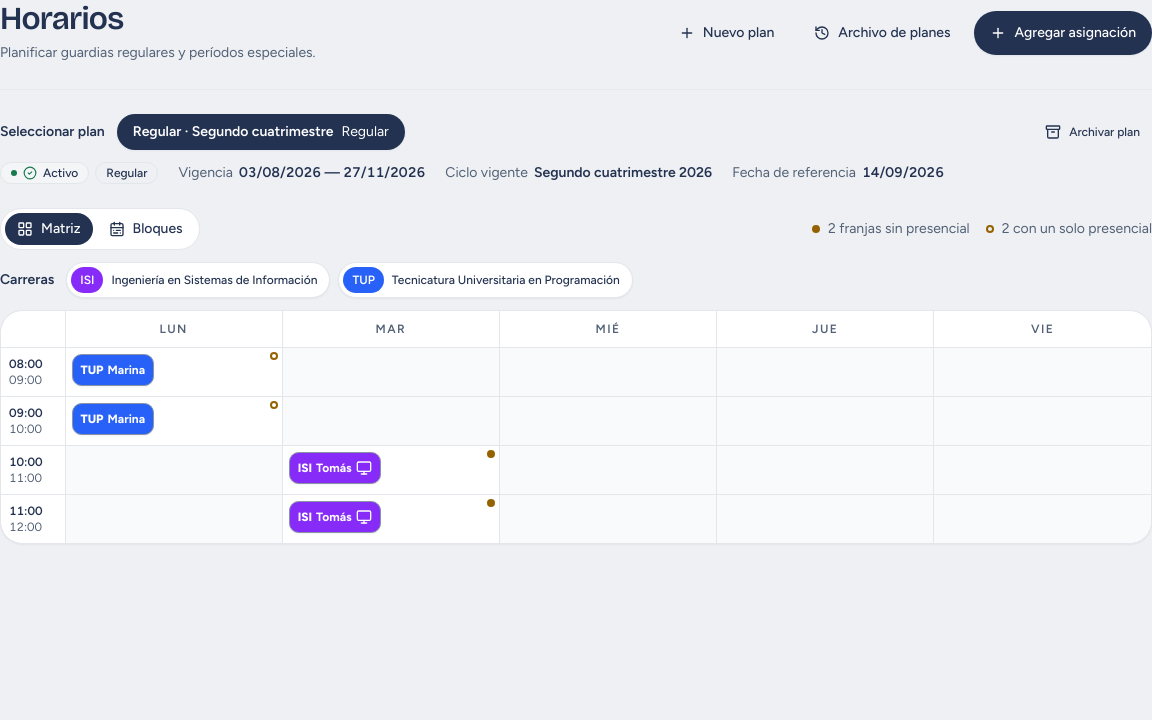
Test: SchedulesScreen › creates a virtual assignment through the API and confirms it with a toast
Step 1. Click the button "Agregar asignación" → (1063, 33), box [974, 11, 1151, 55]
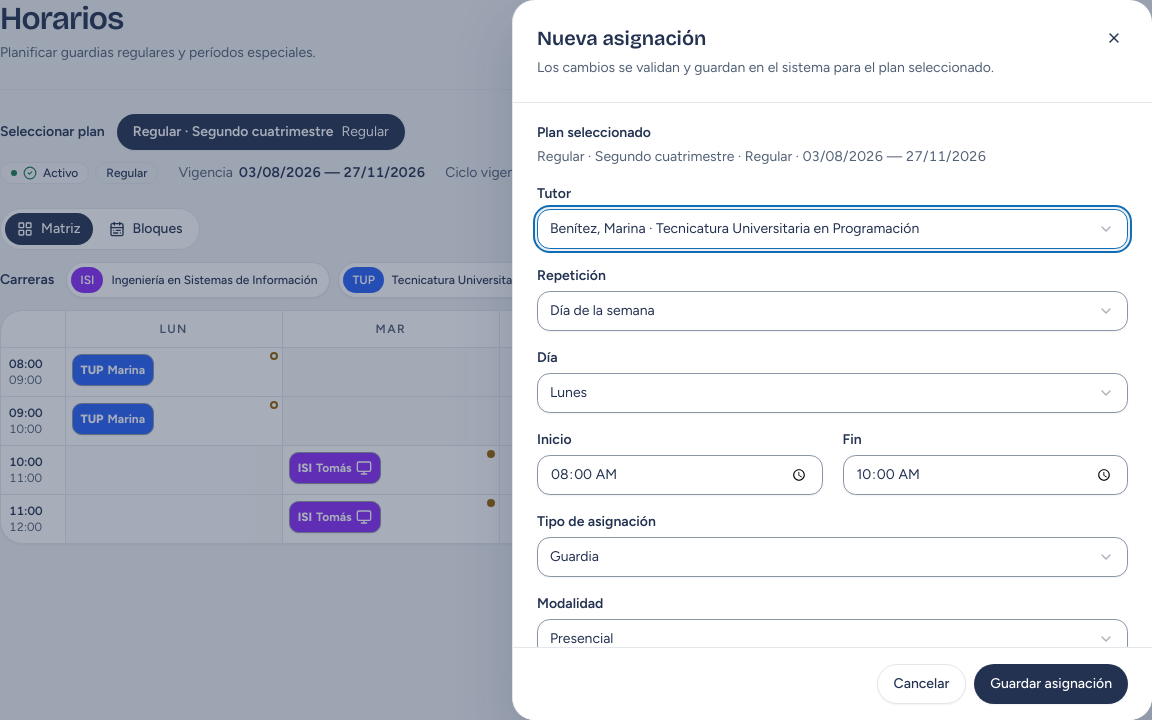
Now the text "Regular · Segundo cuatrimestre · Regular" is shown, box [537, 148, 986, 165]
Now the dropdown labelled "Modalidad" shows "Presencial", box [537, 619, 1128, 647]
Step 2. Select "Virtual" in the dropdown labelled "Modalidad" → (832, 639), box [537, 619, 1128, 659]
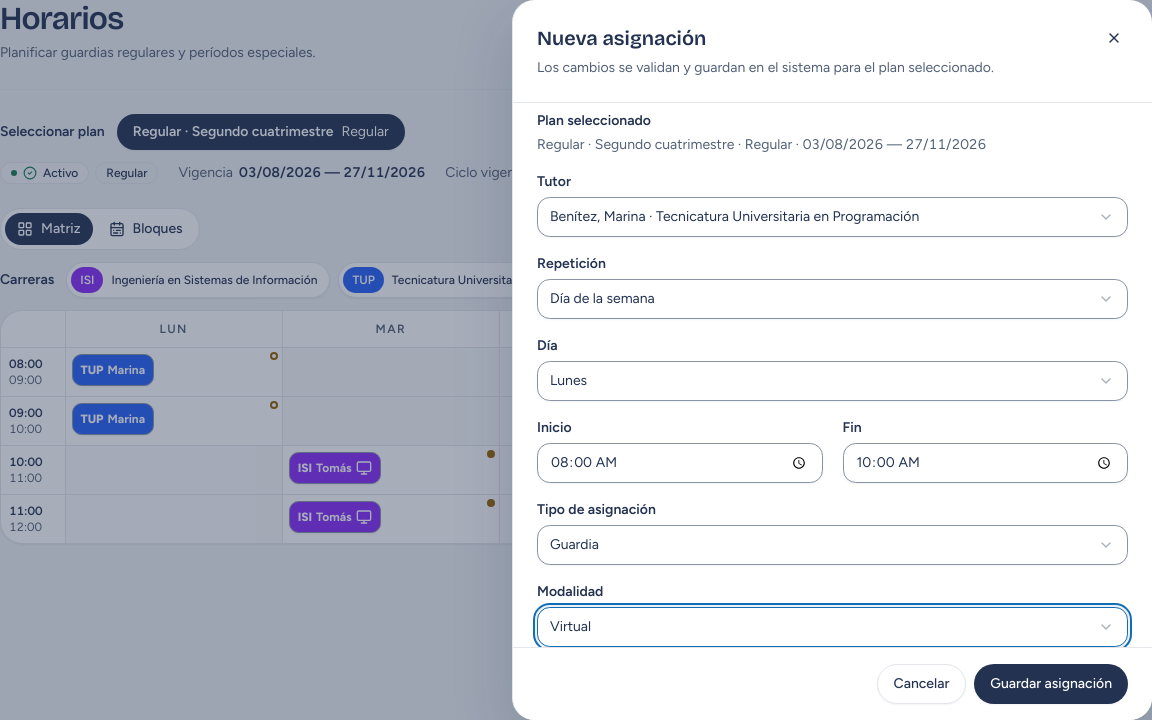
Step 3. Click the button "Guardar asignación" → (1051, 684), box [974, 664, 1128, 704]
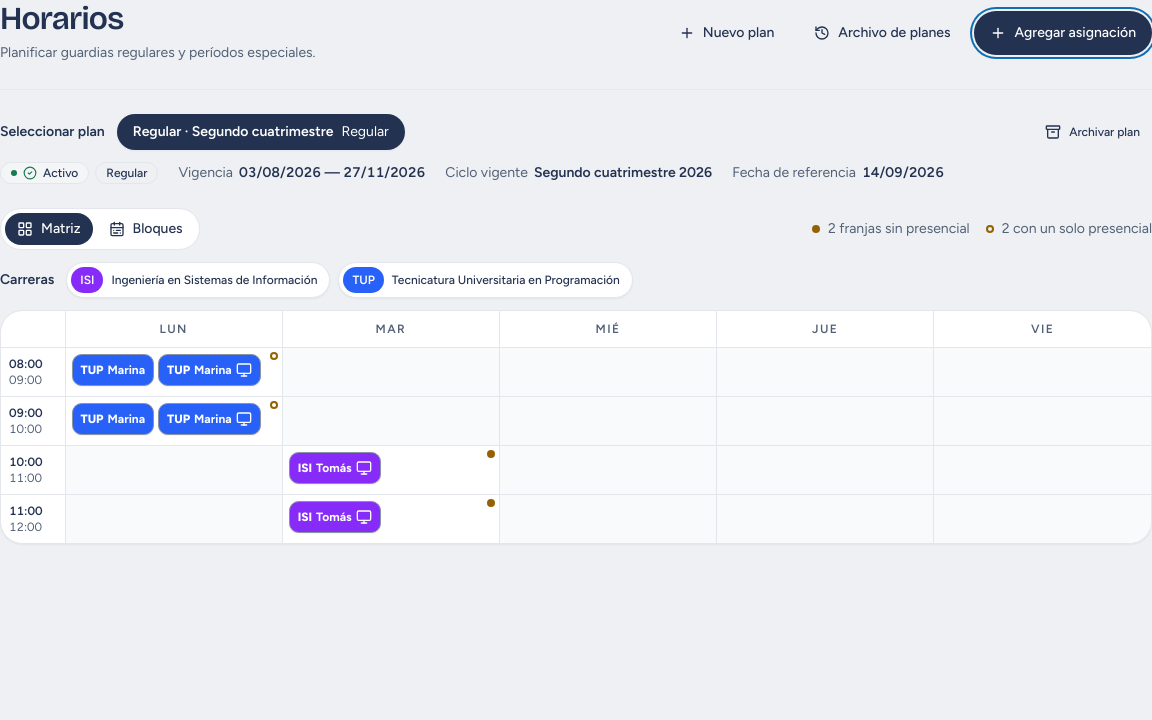
Now the heading "Nueva asignación" is gone
